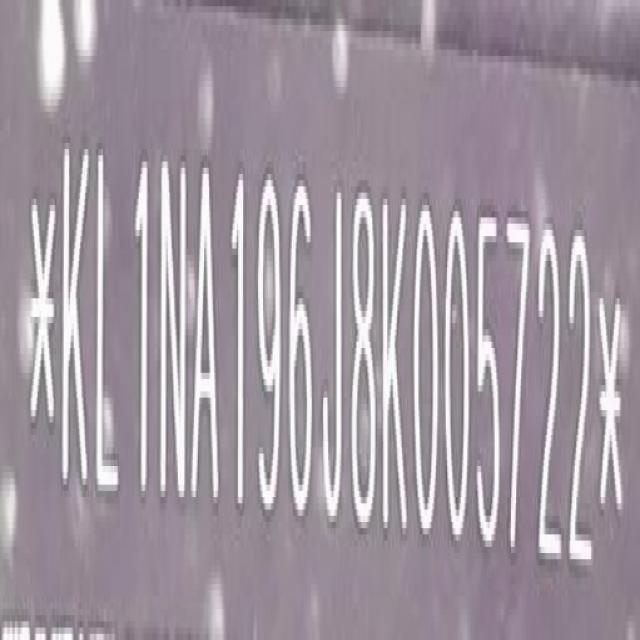0: (413, 196, 440, 542), (445, 206, 472, 548)
1: (229, 164, 249, 518), (134, 146, 153, 514)
2: (538, 224, 564, 566), (566, 229, 592, 569)
5: (476, 210, 501, 558)
6: (290, 176, 317, 529)
7: (508, 213, 532, 565)
8: (350, 182, 377, 532)
9: (258, 170, 284, 519)
A: (192, 162, 220, 513)
J: (321, 180, 345, 520)
K: (58, 138, 92, 497), (380, 189, 409, 543)
L: (96, 145, 122, 497)
N: (158, 148, 189, 513)
